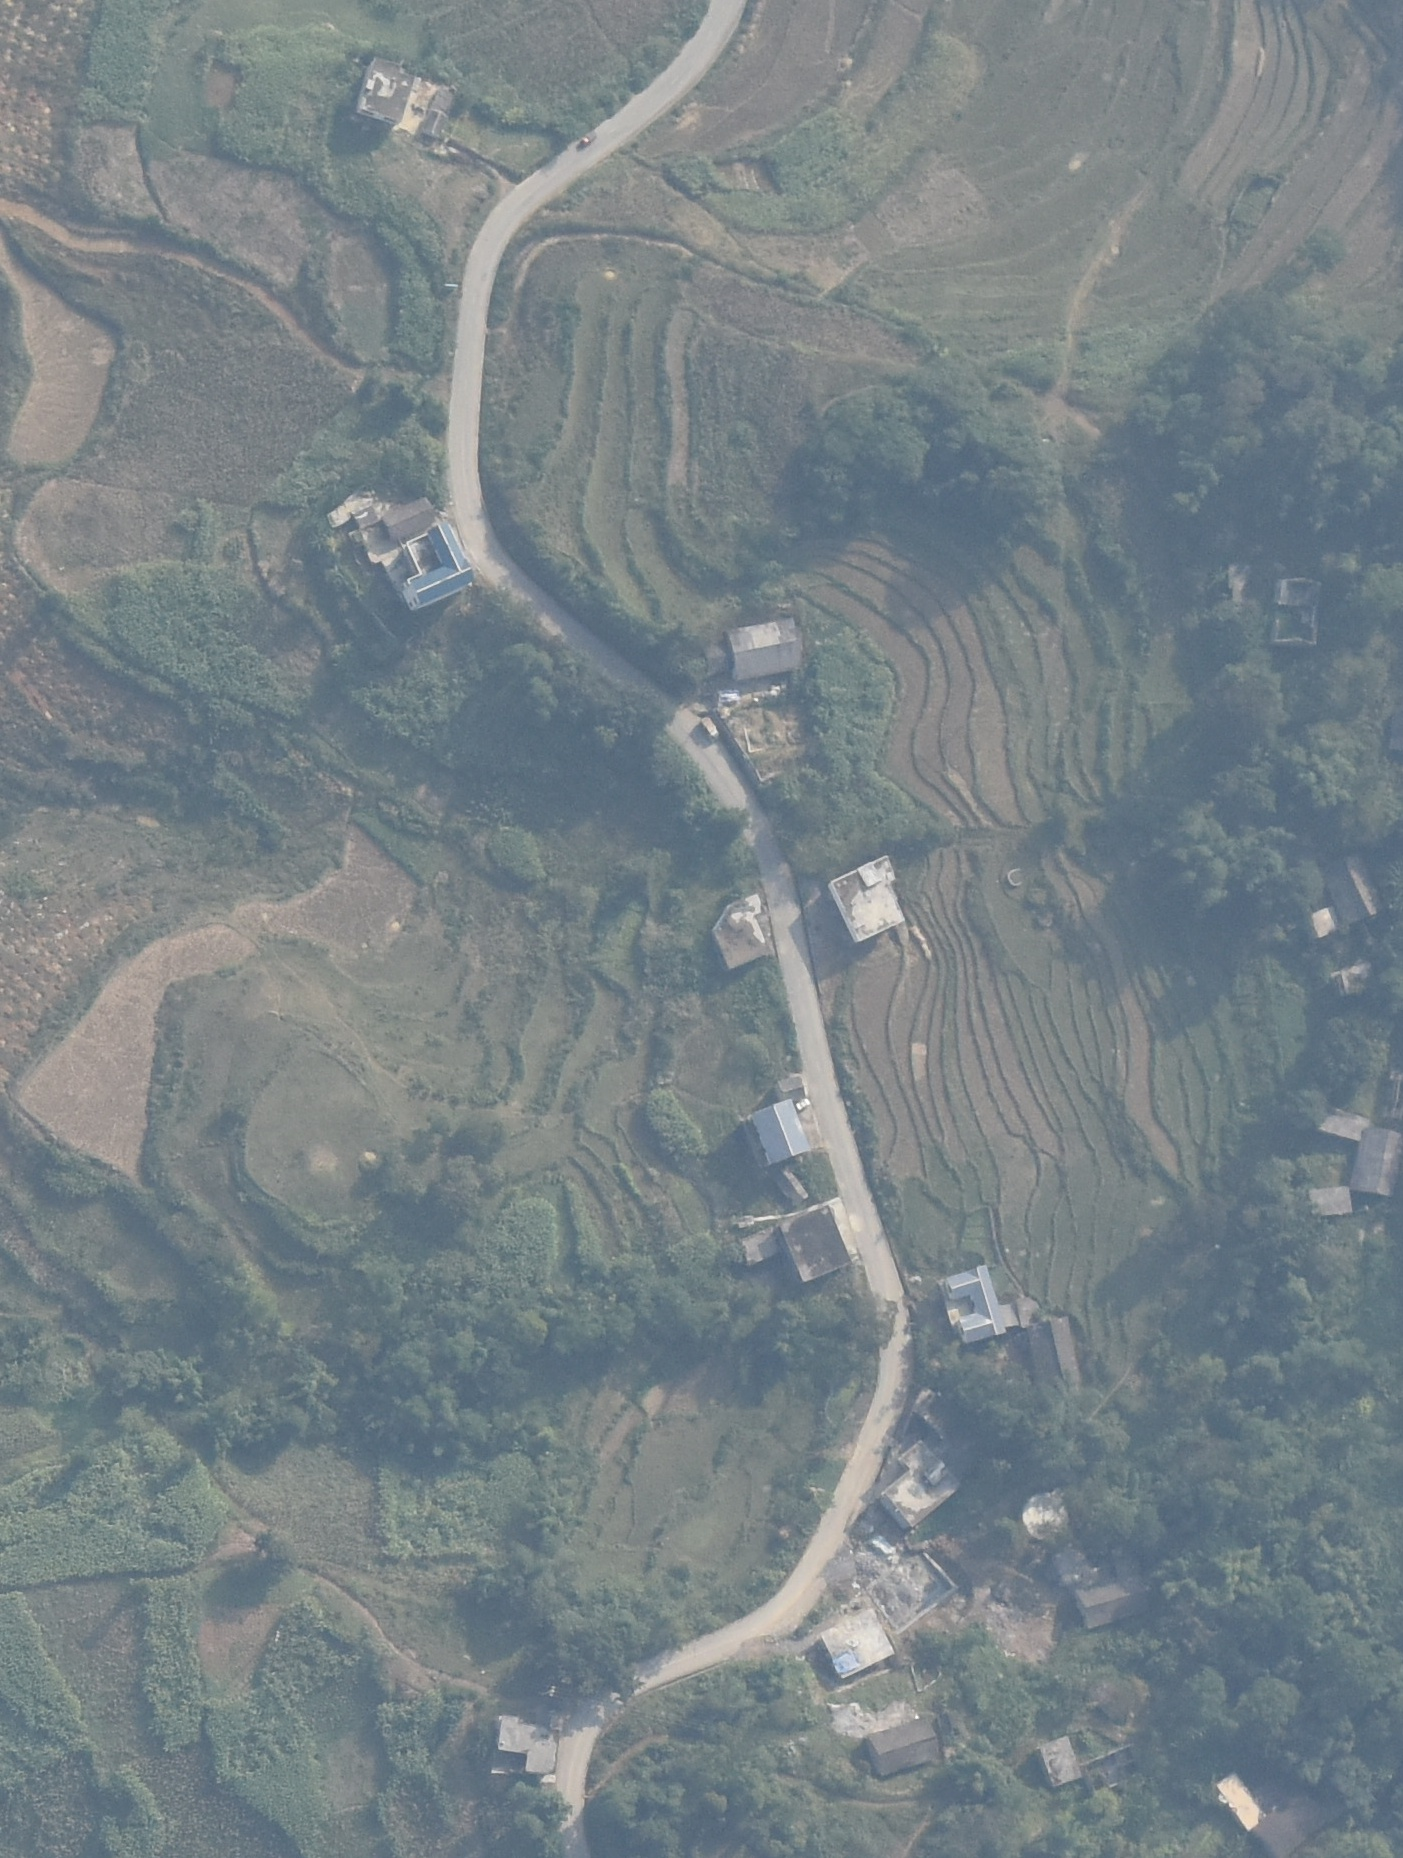building: (1219, 1763, 1340, 1852), (381, 521, 482, 618), (355, 54, 461, 141), (826, 855, 920, 944), (927, 1257, 1016, 1348), (775, 1199, 863, 1288), (882, 1438, 964, 1531), (475, 1706, 561, 1786), (815, 1605, 899, 1684), (1024, 1308, 1089, 1403), (724, 614, 818, 679), (1319, 858, 1400, 931), (859, 1717, 941, 1781), (745, 1098, 816, 1171), (710, 895, 780, 965), (1354, 1118, 1397, 1212), (1272, 571, 1324, 647), (1078, 1582, 1144, 1632), (1321, 1105, 1376, 1153), (1299, 1183, 1360, 1225), (1042, 1730, 1083, 1790), (1327, 961, 1382, 1000), (774, 1075, 812, 1104), (1311, 906, 1341, 937)
vehicle: (374, 498, 446, 536), (579, 131, 598, 150), (797, 1097, 814, 1110)
well: (1021, 1490, 1073, 1541)
